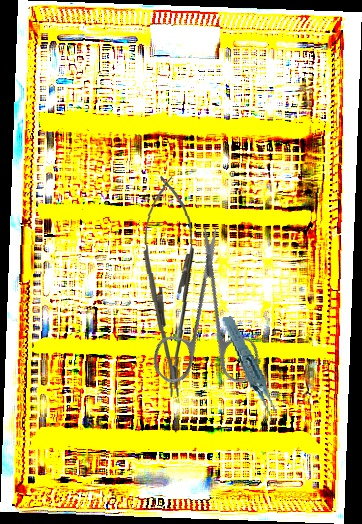Iris Scissors: (107, 222, 307, 423)
Needle Holder: (140, 175, 199, 400)
Tissue Forceps: (220, 311, 279, 431)
